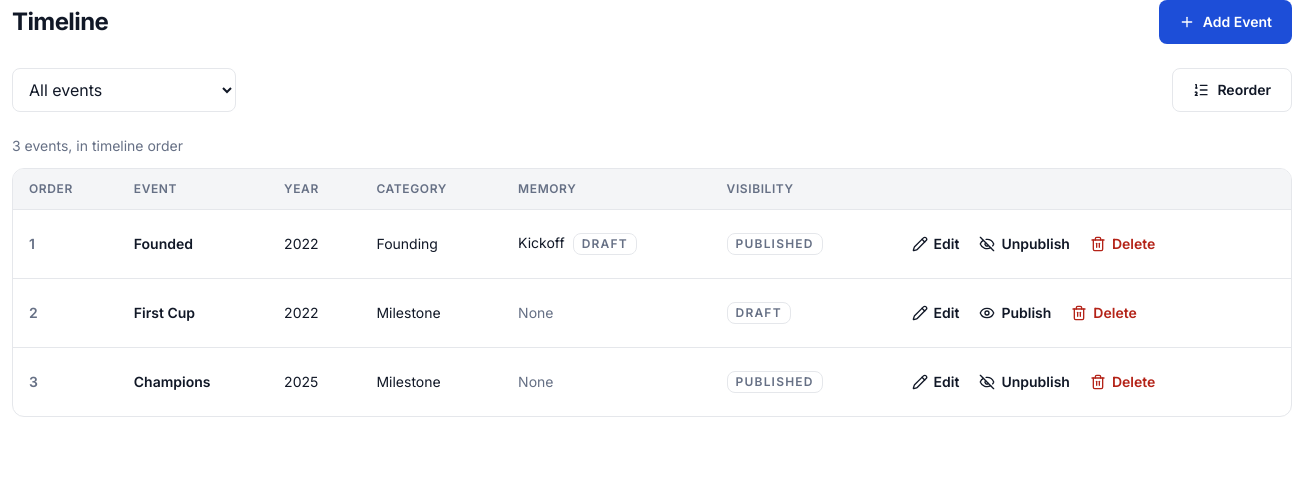
Test: AdminTimeline reorder › explains a 409 conflict
This screenshot has width=1304, height=497.
Expected: the table is shown, [13,169,1291,416]
Click the button "Reorder": click(1232, 90) [1172,68,1292,112]
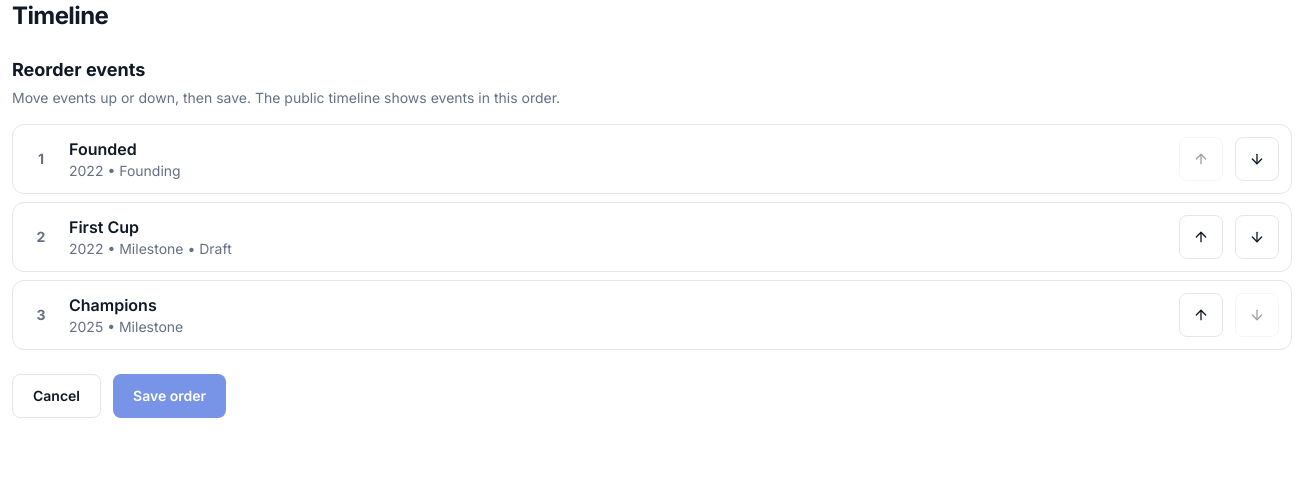
Click the button named "Move Founded down": click(1257, 159) [1235,137,1279,181]
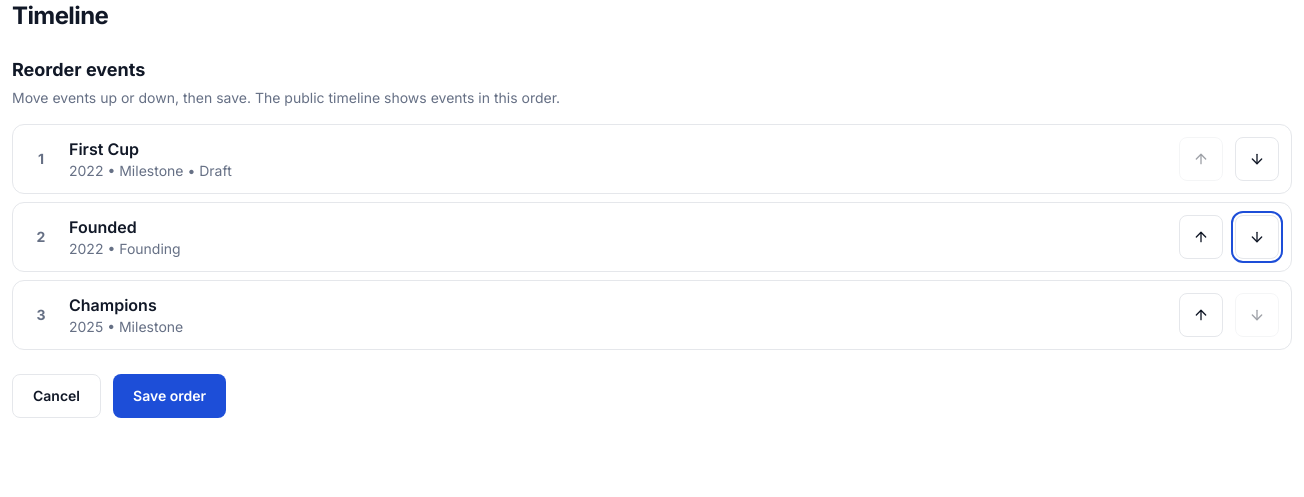
Click the button "Save order": click(170, 396) [113,374,226,418]
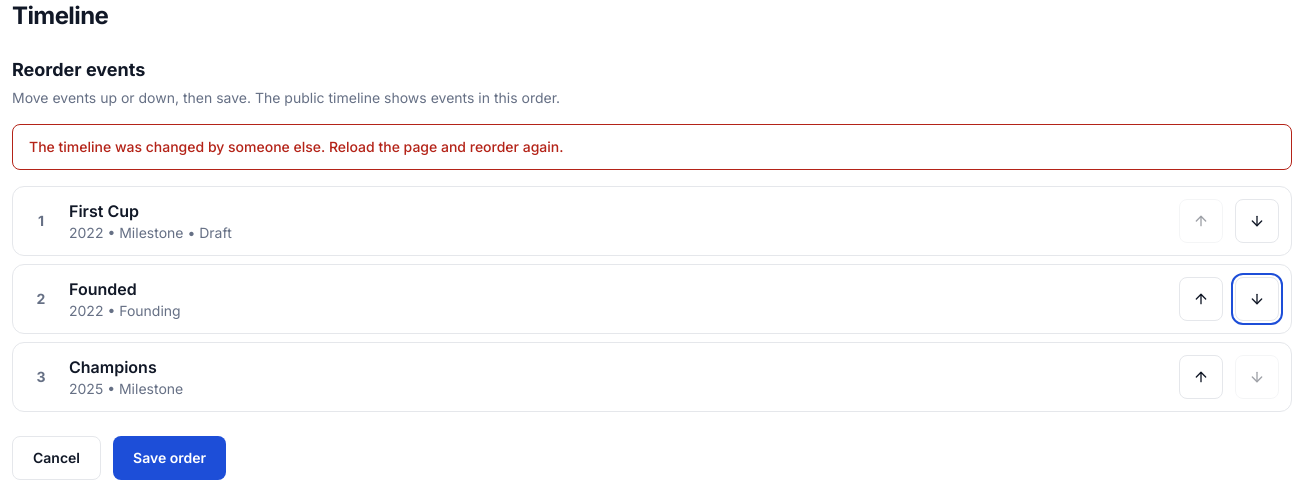
Expected: the message reads "The timeline was changed by someone else. Reload the page and reorder again.", [29,138,564,155]
